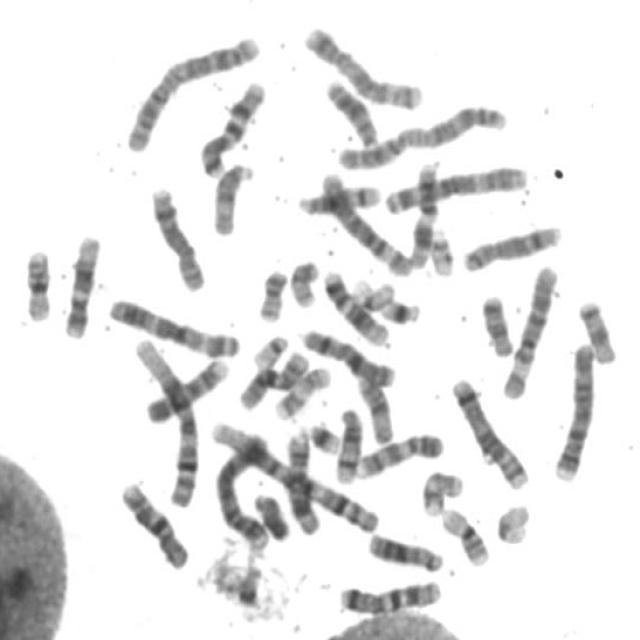A1: (205, 416, 385, 535), (128, 328, 202, 510)
A2: (120, 27, 264, 152), (332, 96, 512, 172)
A3: (102, 288, 244, 360), (378, 156, 532, 216)
B4: (211, 424, 277, 554), (550, 333, 600, 484)
B5: (298, 18, 428, 111), (446, 368, 534, 492)
C10: (115, 473, 193, 571), (234, 343, 314, 411)
C11: (281, 422, 324, 536), (405, 154, 443, 268)
C12: (320, 262, 394, 347), (59, 227, 104, 341)
C6: (317, 164, 414, 276), (496, 256, 563, 402)
C7: (194, 72, 272, 179), (334, 571, 446, 616)
C8: (145, 178, 211, 293), (458, 215, 566, 273)
C9: (141, 351, 233, 425), (352, 424, 448, 480)
D13: (320, 72, 382, 150), (363, 525, 447, 573)
D14: (294, 177, 385, 216), (329, 399, 366, 485)
D15: (208, 155, 259, 237), (352, 368, 398, 446)
E16: (436, 499, 494, 567), (19, 240, 56, 322)
E17: (270, 357, 336, 421), (418, 463, 468, 517)
E18: (574, 290, 622, 364), (476, 286, 518, 358)
F19: (491, 496, 535, 546), (347, 271, 399, 311)
F20: (252, 261, 292, 324), (284, 251, 324, 310)
G21: (376, 290, 424, 326), (304, 414, 345, 456)
G22: (247, 325, 292, 370), (426, 221, 457, 278)
X: (297, 321, 399, 388)
Y: (247, 484, 294, 543)
